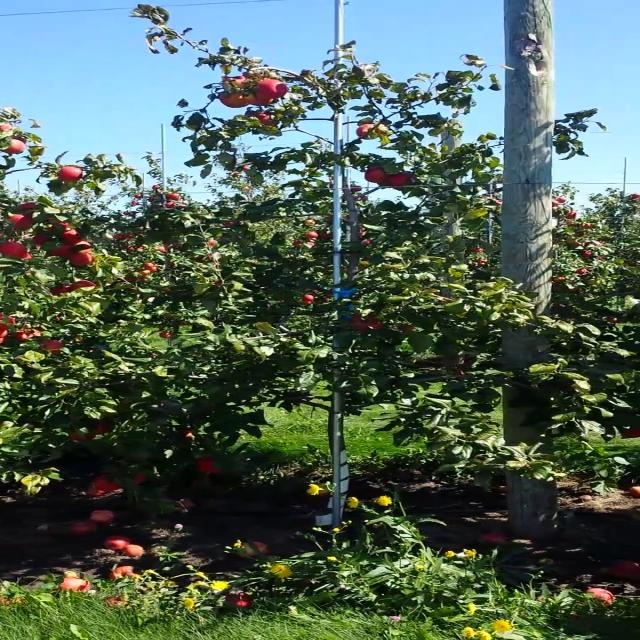apple: (258, 79, 286, 99), (5, 213, 36, 231), (194, 452, 218, 473), (350, 314, 380, 330), (91, 476, 121, 492), (220, 91, 249, 107), (90, 420, 116, 434), (58, 166, 82, 181), (1, 242, 23, 258), (42, 340, 64, 354), (243, 95, 273, 105), (71, 252, 92, 266), (365, 169, 386, 183), (44, 222, 68, 234), (388, 174, 412, 186), (4, 140, 24, 154), (61, 230, 80, 244), (225, 76, 247, 88), (70, 280, 94, 290), (356, 124, 374, 137), (51, 244, 70, 256), (19, 329, 41, 339), (74, 242, 93, 253), (52, 286, 72, 296), (1, 315, 14, 329), (255, 113, 270, 125), (70, 432, 94, 439), (16, 202, 35, 210), (131, 473, 145, 483), (625, 427, 639, 437), (35, 235, 48, 245), (184, 430, 194, 438), (1, 123, 10, 131), (161, 332, 171, 338), (1, 329, 8, 337), (23, 252, 32, 258), (1, 338, 3, 343)
